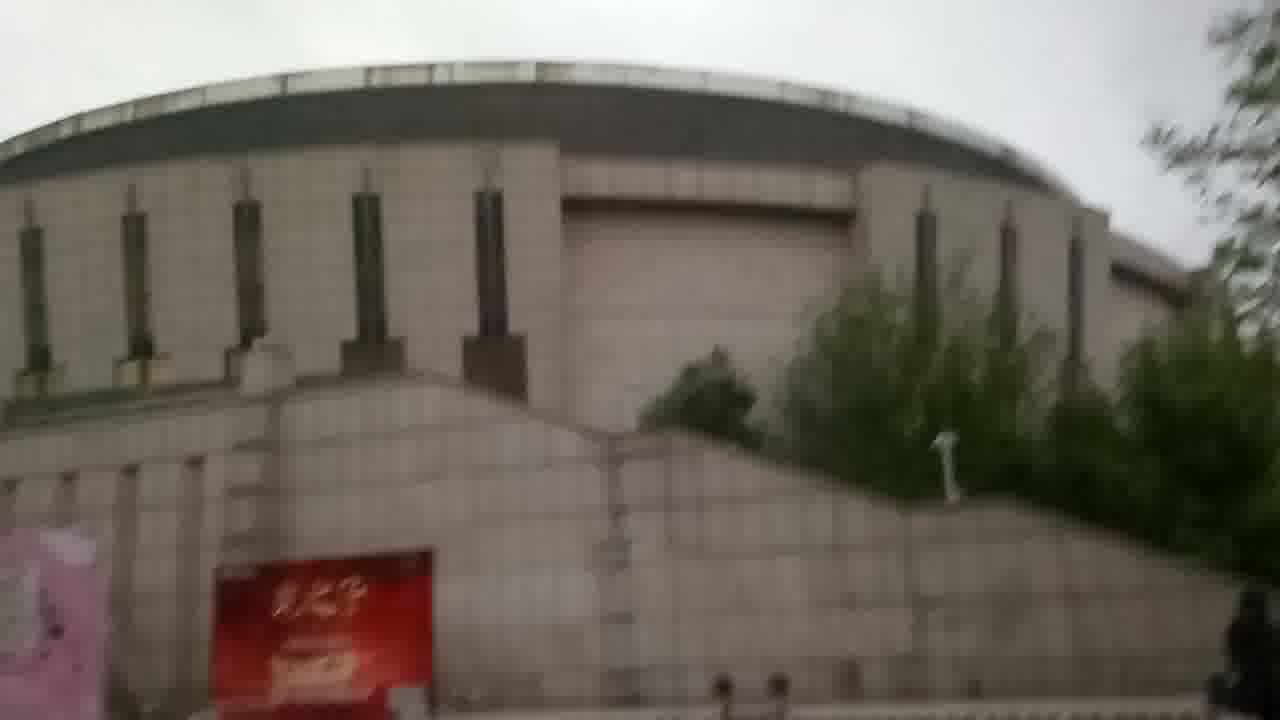zhongtiww: (10, 47, 1276, 702)
